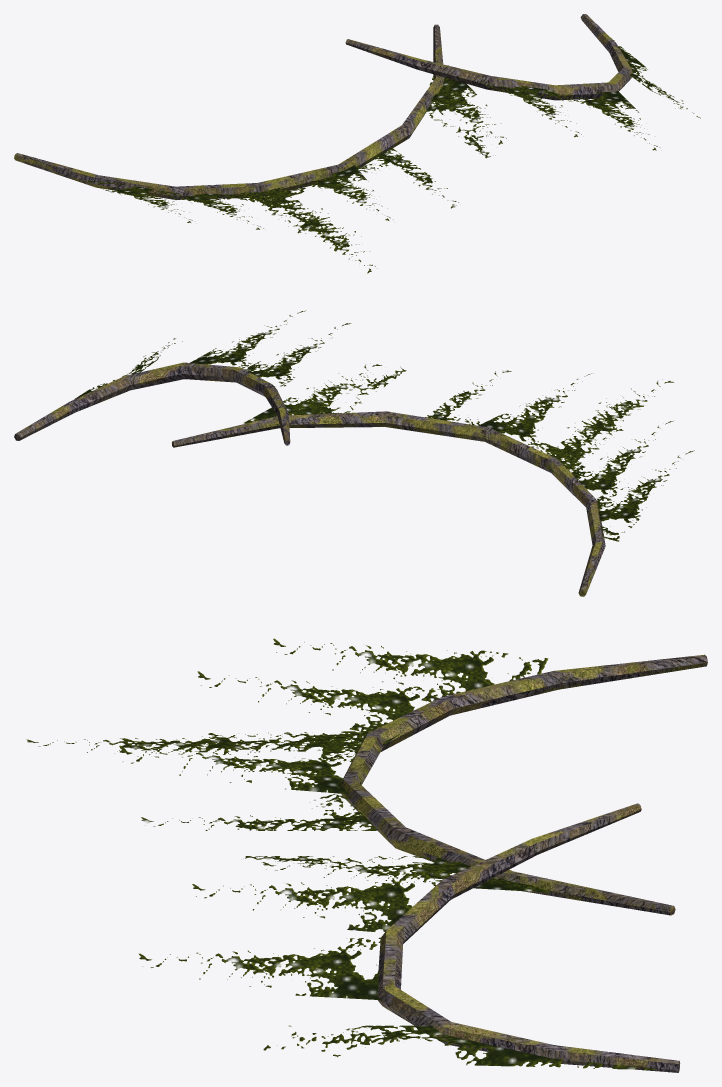
The model's file is lianes 3D.FBX.
3 views of the same model, one above another, from view 1: azimuth 30°, elevation 25°; view 2: azimuth 150°, elevation 25°; view 3: azimuth 270°, elevation 25° (orthographic). The views are drawn at different scales.
Parts seen in each view (by area): view 1: Line006; view 2: Line006; view 3: Line006.
Part boxes in pixels (bbox=[...]): Line006: bbox=[14, 14, 700, 273]; Line006: bbox=[14, 310, 694, 596]; Line006: bbox=[26, 638, 707, 1072].
Size of the model in its own units: 600 by 61.84 by 413.
